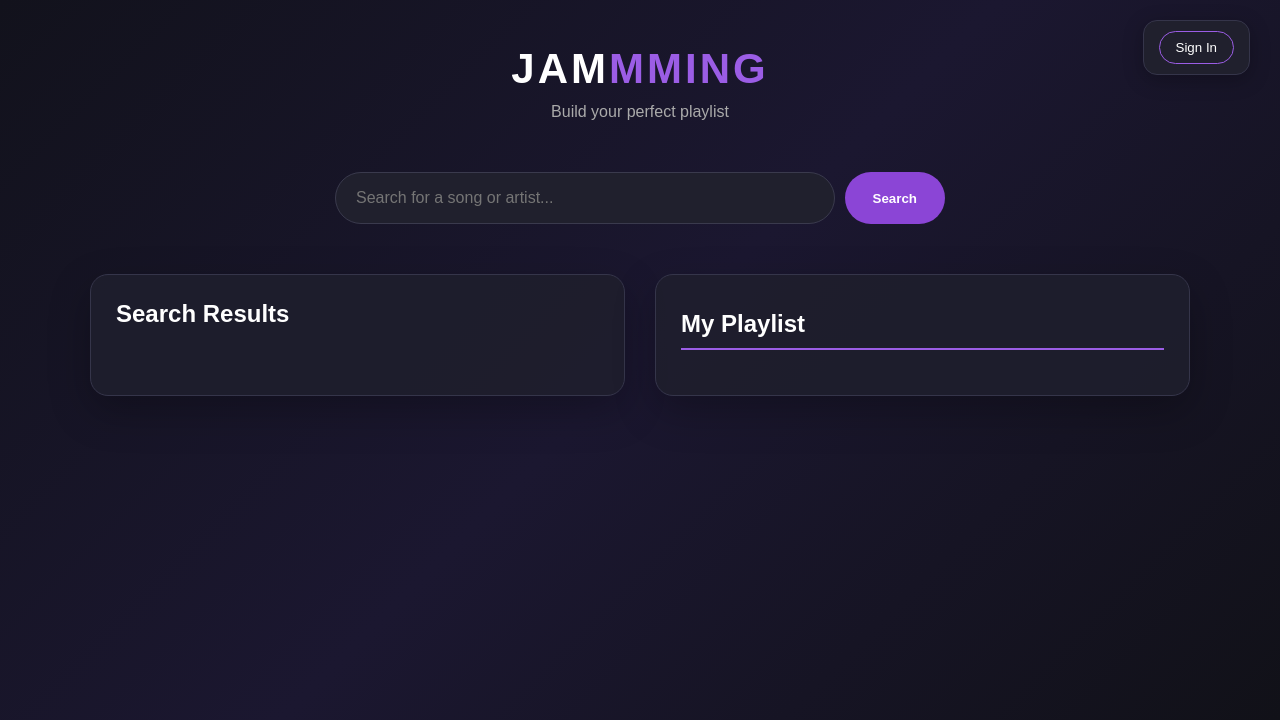
Scenario: Jammming App › clears the playlist after successful save
Click the button "Sign In" at (1196, 48), box [1158,31,1234,64]
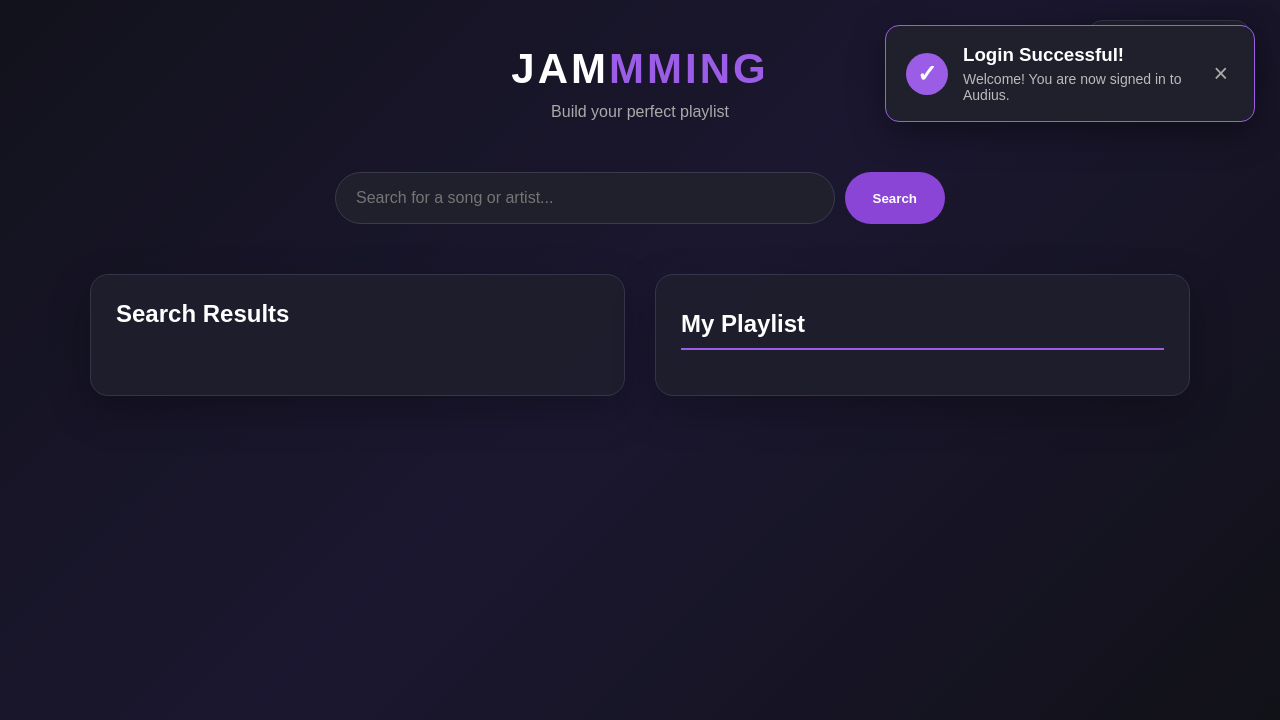
Type "Song" into the field with placeholder "Search for a song or artist..." at (585, 198), box [335,172,834,224]
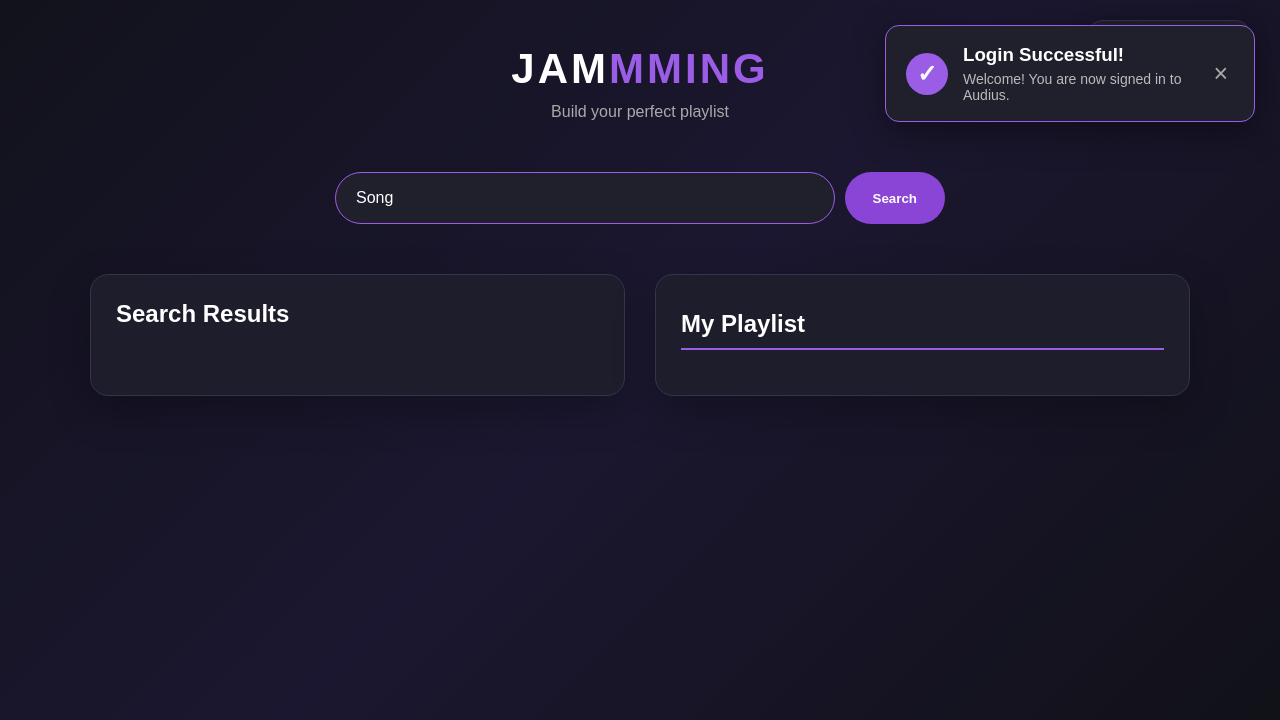
Click the button "Search" at (895, 198), box [844,172,945,224]
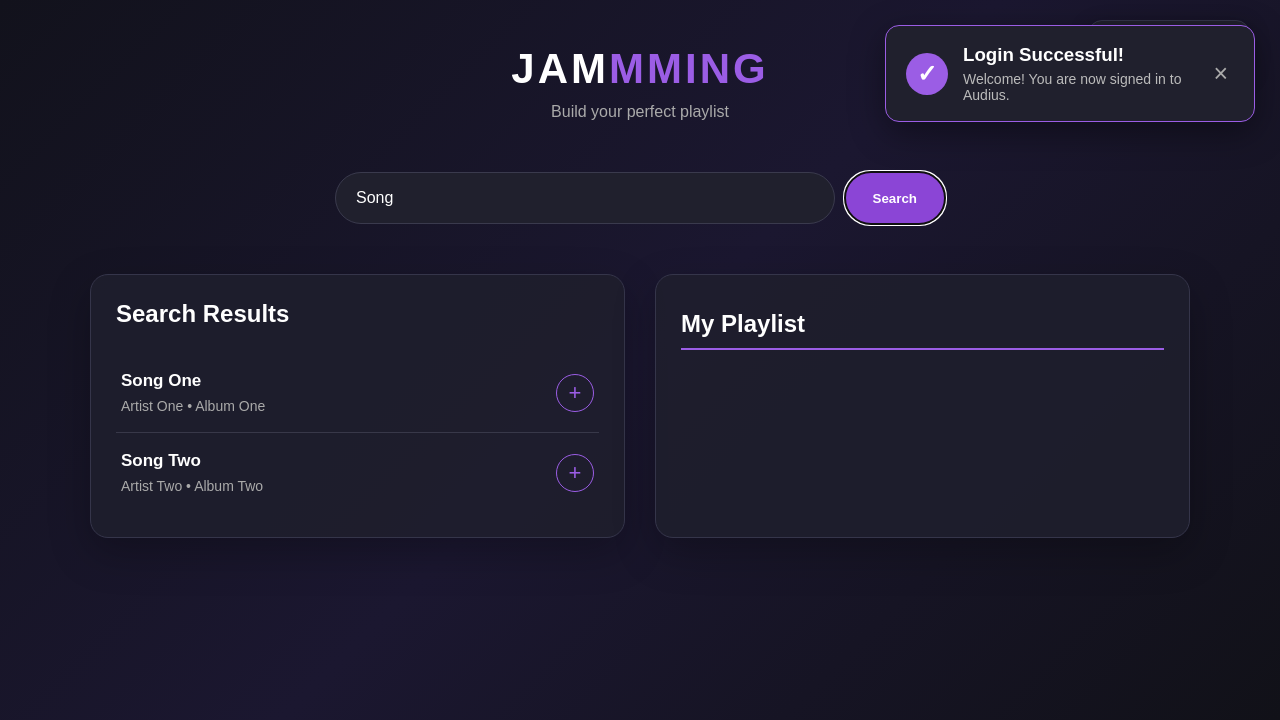
Check: the heading "Song One" is shown, box [121,371,201,390]
Click the button "+" in the row of "Album One" at (575, 392), box [556,374,594,412]
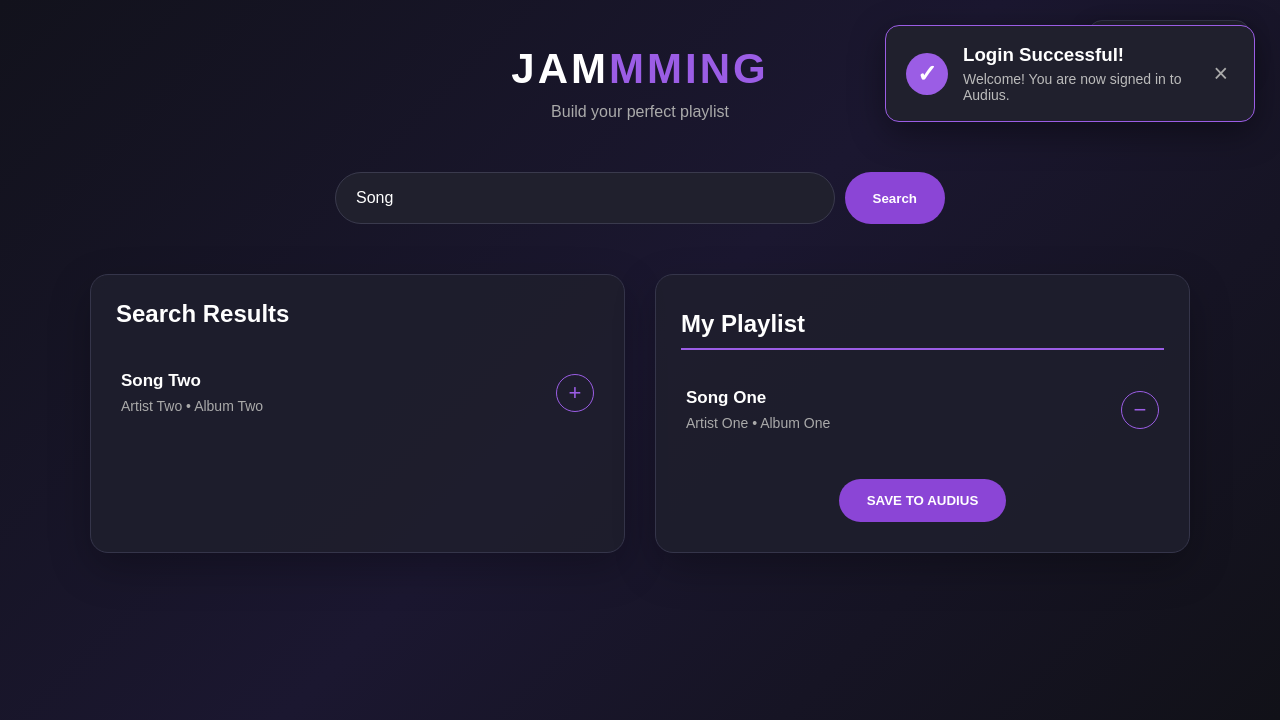
Click the button "SAVE TO AUDIUS" at (922, 500), box [839,479,1006,522]
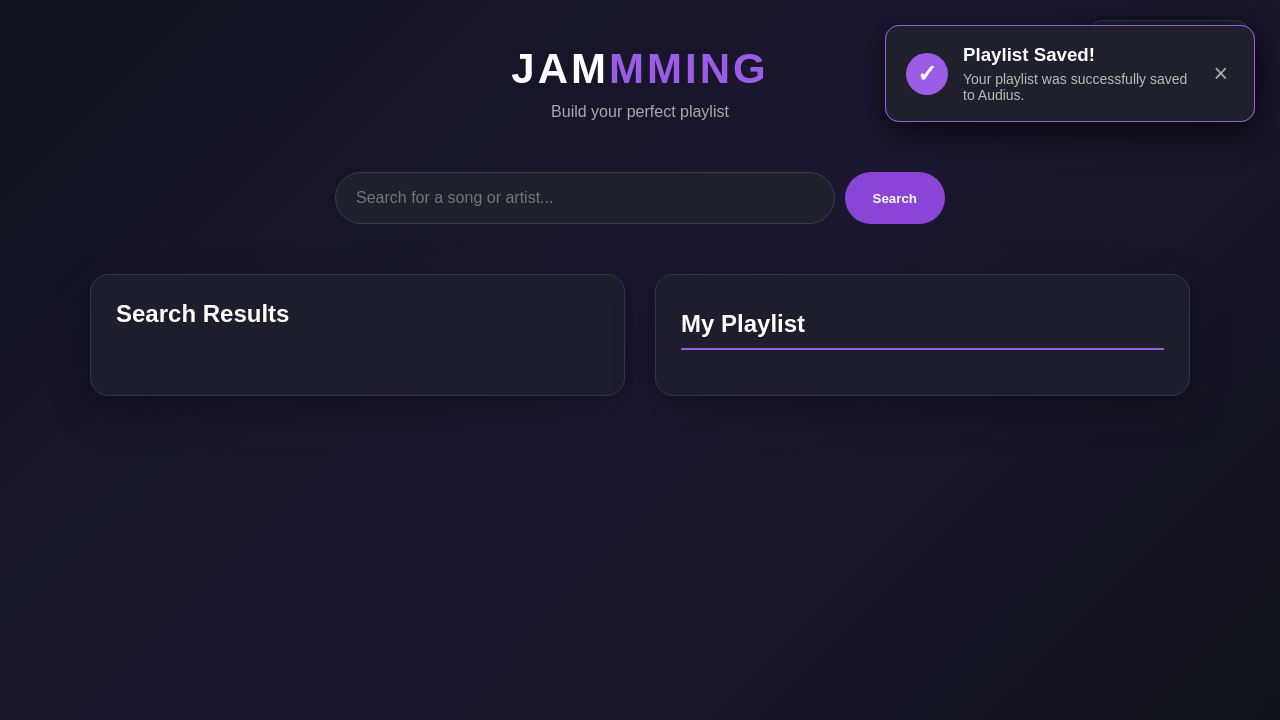
Check: the field showing "My Playlist" is shown, box [681,300,1164,350]
Check: the field with placeholder "Search for a song or artist..." is empty, box [335,172,834,224]
Check: the heading "Song One" is gone
